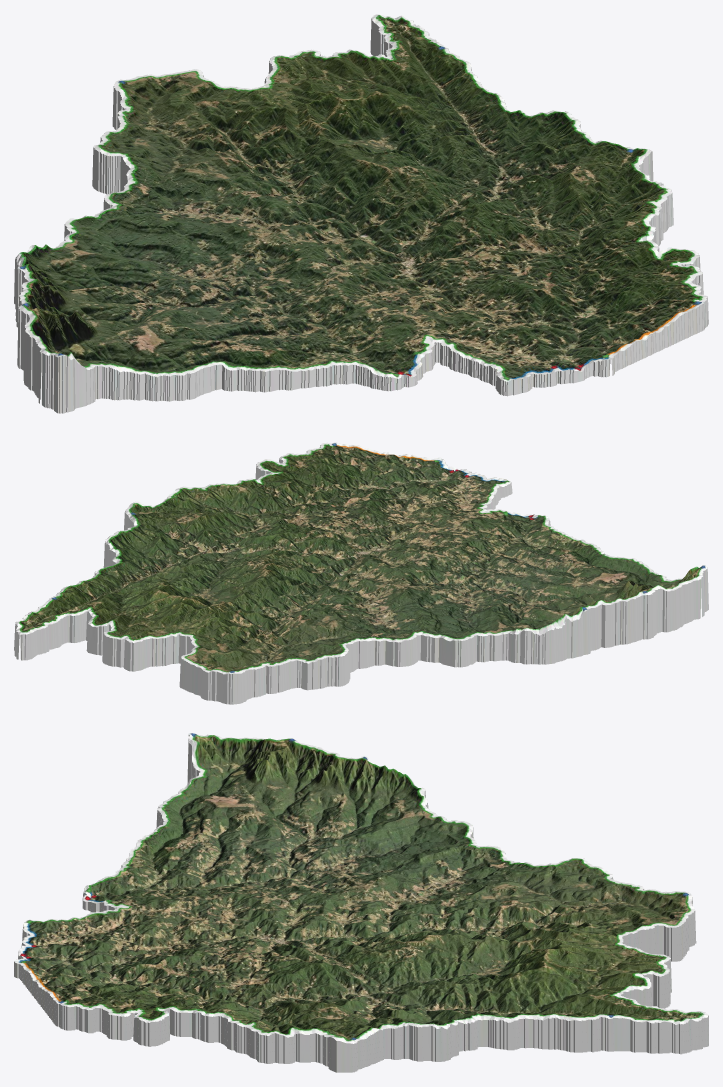
3 renders of one model, top to bottom at view 1: azimuth 30°, elevation 25°; view 2: azimuth 150°, elevation 25°; view 3: azimuth 270°, elevation 25°, orthographic. The views are drawn at different scales.
Size of the model in its own units: 1 by 0.085 by 1.
1 material, 1 textured.
